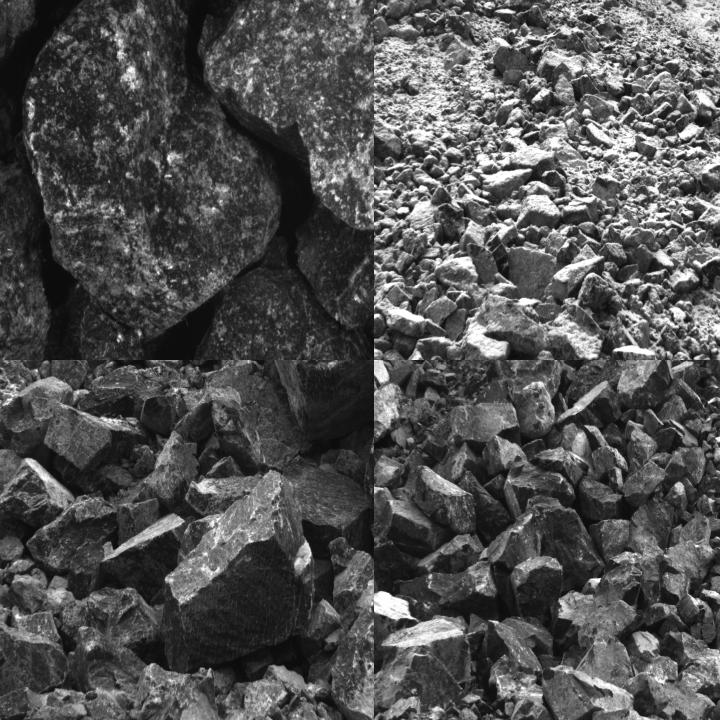stone: (21, 0, 282, 336), (161, 456, 373, 673), (199, 0, 373, 256), (165, 236, 374, 359), (200, 360, 308, 476), (294, 194, 373, 335), (0, 162, 52, 359), (33, 281, 164, 359), (100, 515, 189, 605), (57, 582, 162, 658), (26, 494, 119, 576), (374, 647, 467, 719), (327, 576, 373, 719), (399, 561, 499, 622), (422, 402, 522, 459), (136, 430, 202, 516), (120, 666, 223, 719), (0, 621, 70, 696), (0, 458, 75, 528), (541, 666, 636, 719), (73, 626, 147, 693), (44, 402, 112, 473), (374, 498, 451, 560), (503, 455, 575, 518), (468, 298, 547, 353), (415, 466, 476, 532), (330, 537, 373, 630), (509, 556, 564, 626), (578, 600, 646, 650), (547, 304, 605, 359), (576, 628, 631, 686), (657, 538, 714, 593), (558, 380, 621, 428), (415, 532, 483, 576), (488, 622, 544, 674), (616, 360, 673, 409), (626, 496, 674, 554), (546, 256, 605, 302), (512, 380, 556, 438), (374, 541, 421, 594), (376, 300, 446, 335), (509, 248, 557, 299), (508, 360, 562, 403), (529, 449, 589, 487), (67, 543, 108, 598), (594, 564, 644, 609), (620, 460, 668, 506), (501, 616, 554, 657), (577, 475, 624, 521), (116, 499, 162, 545), (374, 382, 403, 453), (622, 673, 671, 715), (482, 434, 528, 478), (577, 274, 622, 317), (663, 447, 706, 492), (566, 360, 606, 408), (12, 606, 62, 644), (589, 520, 629, 566), (431, 185, 464, 238), (481, 168, 532, 202), (138, 396, 177, 437), (434, 255, 479, 290), (509, 146, 554, 181), (462, 328, 512, 359), (514, 194, 560, 227), (627, 427, 658, 475), (0, 449, 26, 503), (83, 688, 128, 719), (374, 115, 403, 161), (665, 378, 705, 411), (592, 446, 627, 483), (493, 45, 535, 72), (475, 376, 515, 404), (563, 196, 599, 226), (663, 481, 688, 524), (685, 246, 719, 277), (374, 456, 405, 490), (591, 360, 626, 390), (425, 297, 459, 326), (657, 394, 688, 424), (486, 234, 509, 273), (662, 573, 690, 604), (374, 482, 396, 521), (516, 5, 550, 29), (672, 361, 701, 387), (552, 75, 576, 106), (604, 424, 627, 455), (402, 229, 428, 256), (586, 123, 614, 147), (678, 594, 699, 625), (592, 175, 618, 200), (612, 345, 657, 359), (699, 163, 719, 192), (181, 364, 204, 388), (449, 15, 470, 39), (531, 88, 552, 110), (374, 17, 391, 42), (508, 0, 543, 12), (374, 312, 386, 338), (713, 274, 719, 300)
